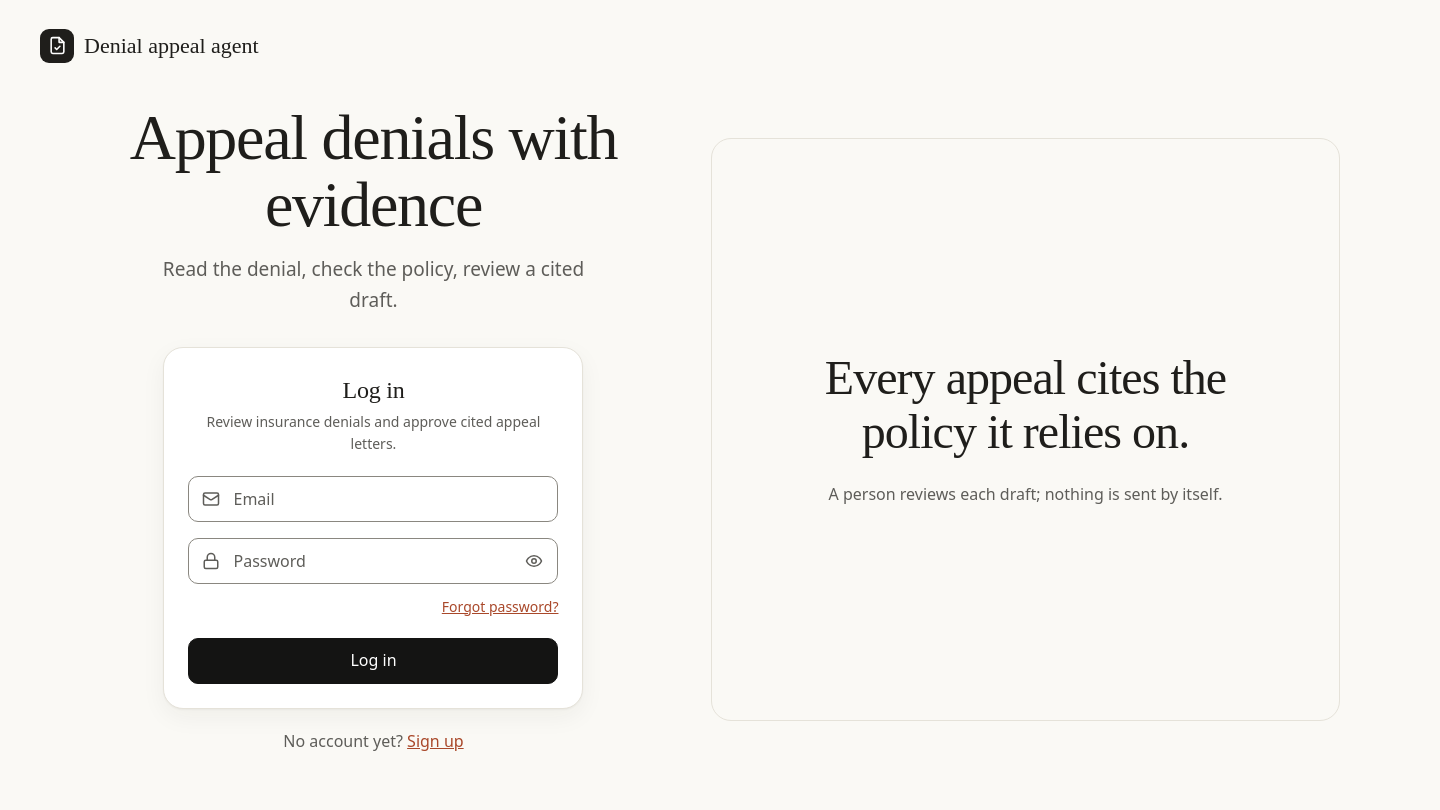
LoginScreen › goes back to the page the guard remembered
Type "ada@example.test" into the field labelled "Email".
click(374, 499); type("ada@example.test")  # box [188,476,558,522]
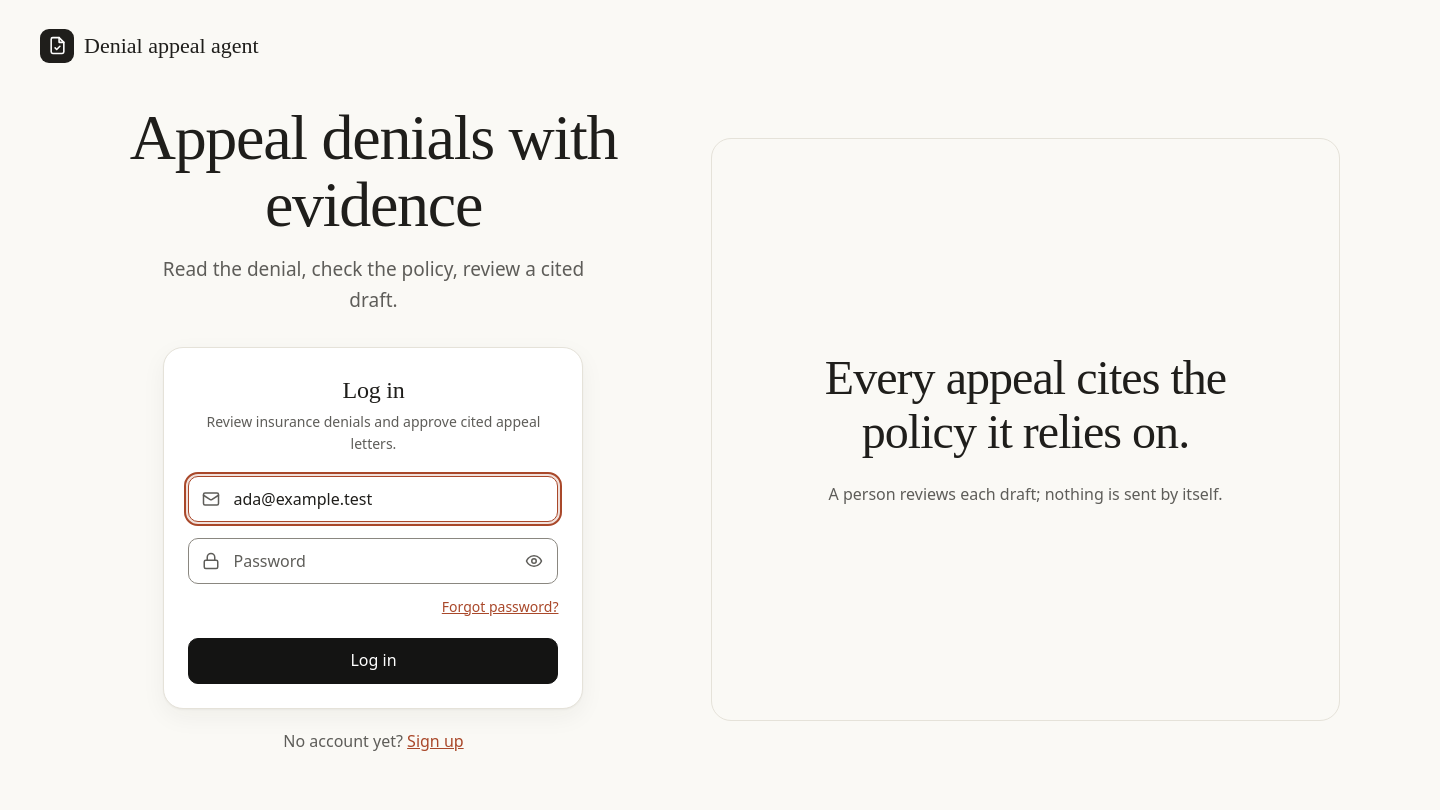
Type "a long made-up password" into the password field labelled "Password".
click(374, 561); type("a long made-up password")  # box [188,538,558,584]
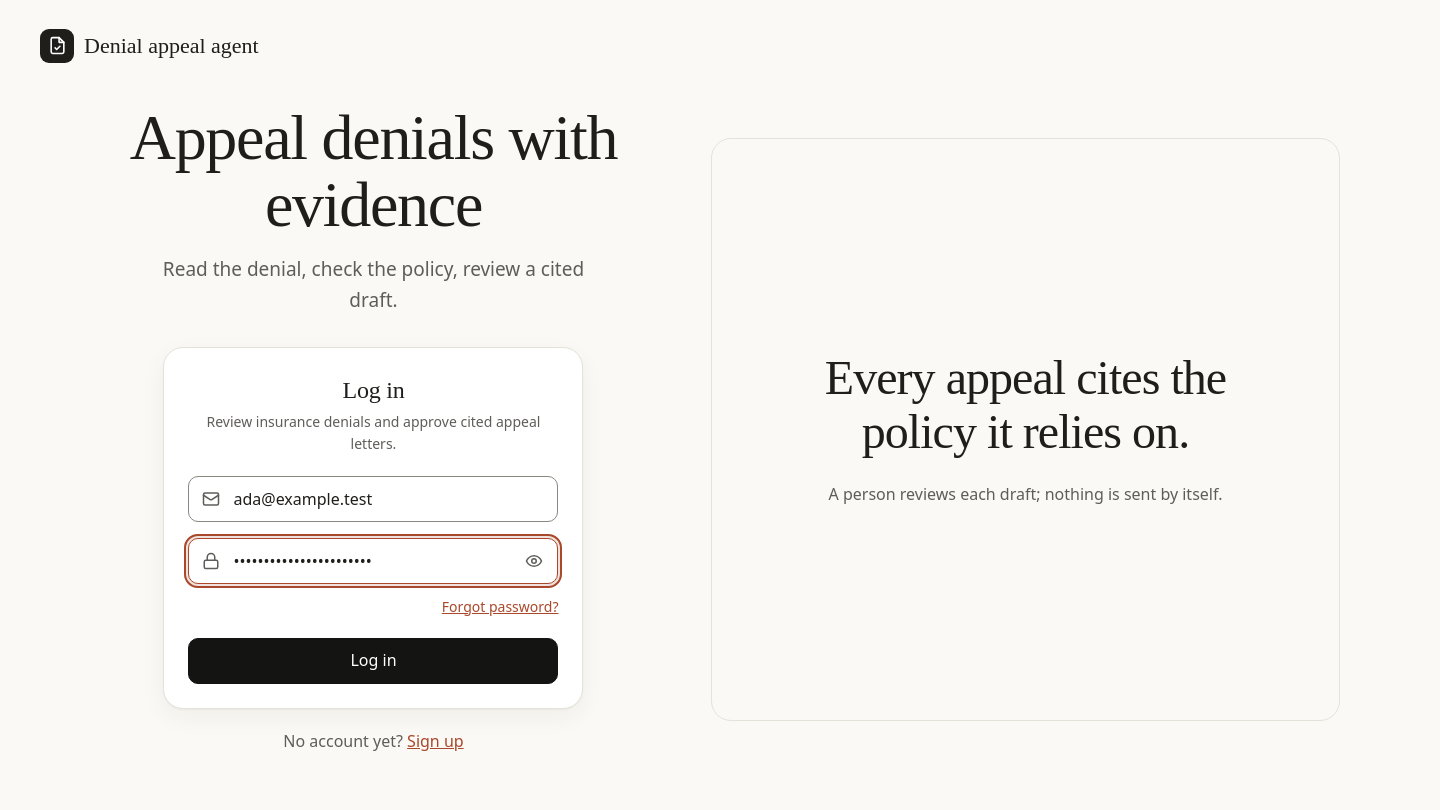
Click the button "Log in".
click(374, 661)  # box [188,638,558,684]
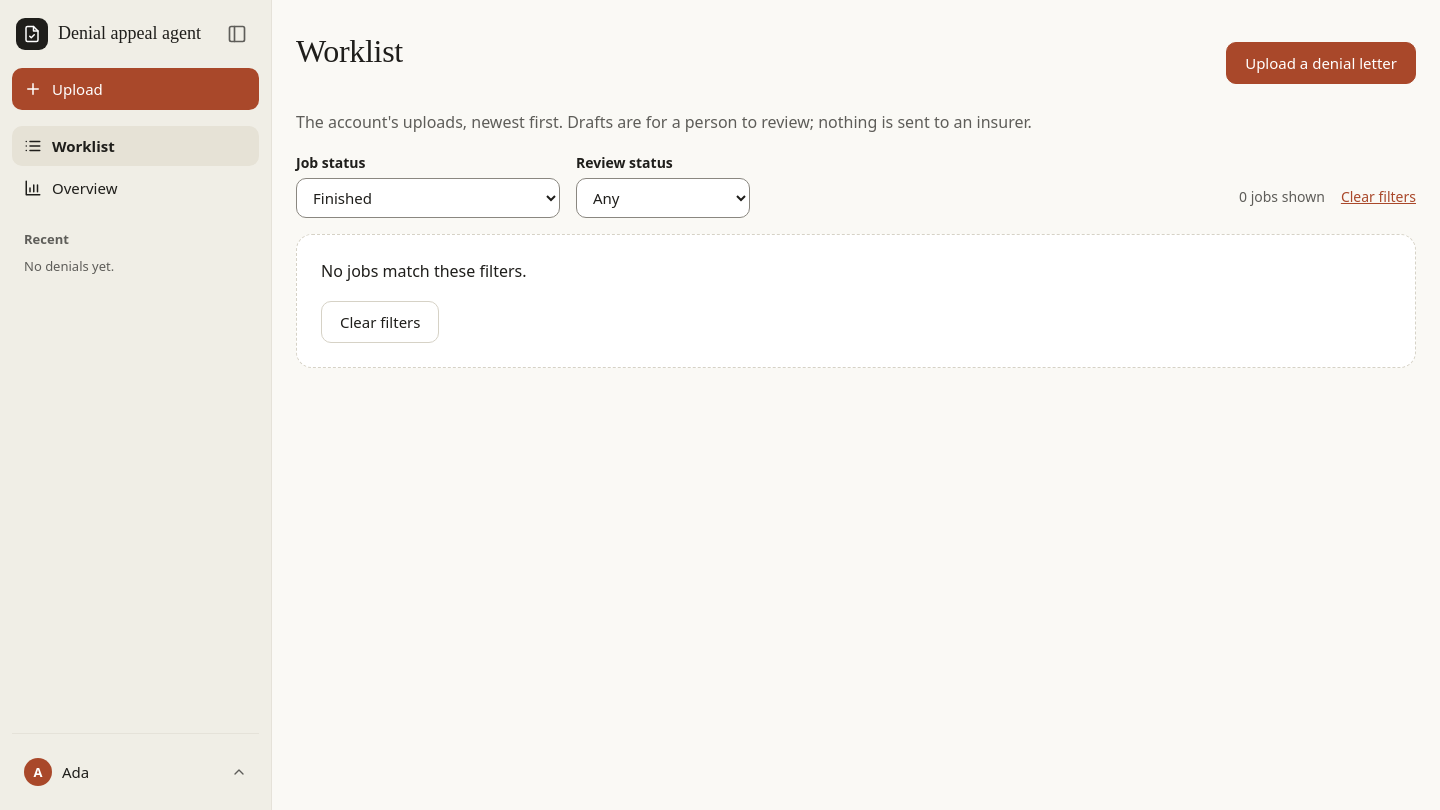
Now the heading "Worklist" is shown, box [296,32,403,70]
